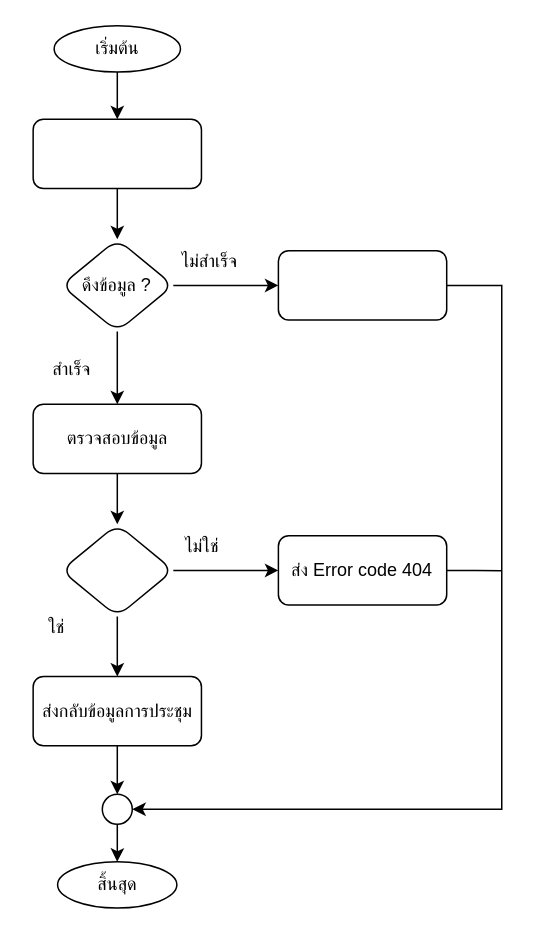
This 540x936 diagram has some shape labels left out. The shapes that lost their labels are listed below. From the top down, each one's centre as x and y in pixels, then its label:
At point (116, 153): "ดึงข้อมูลจาก Table Config".
At point (362, 284): "ส่ง Error code 500".
At point (116, 569): "มีข้อมูล ?".
